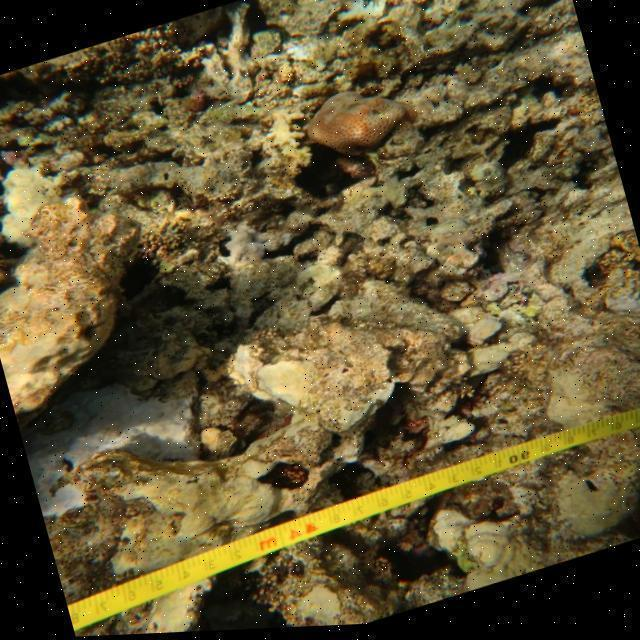Dead Coral: (292, 87, 419, 156)
